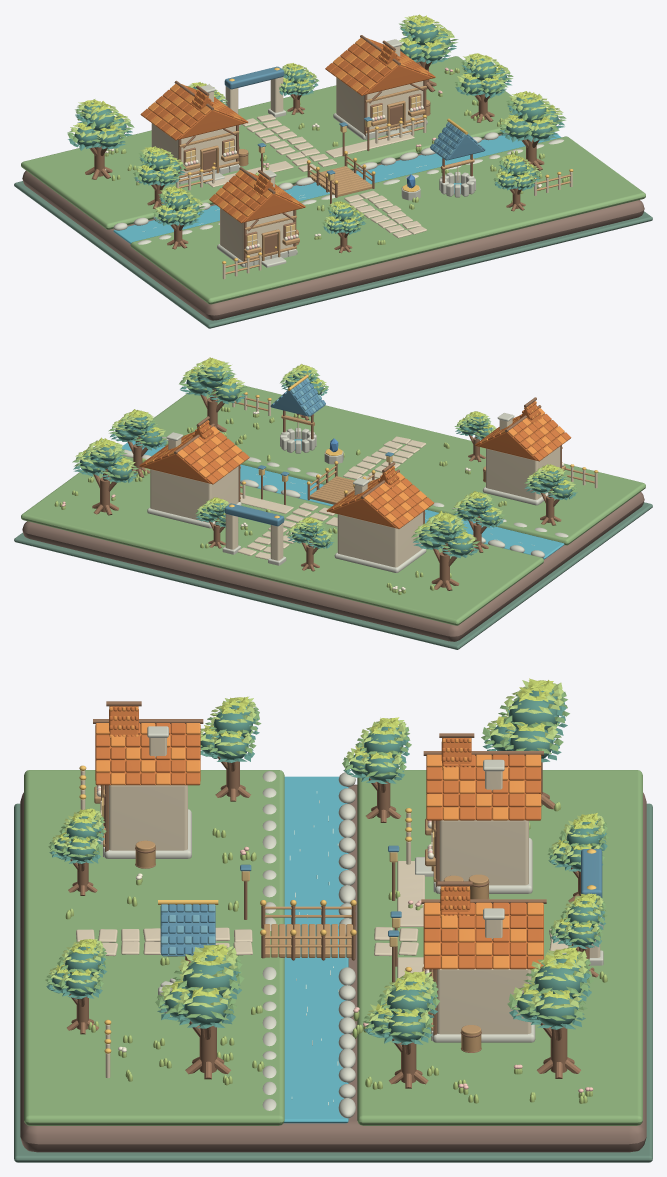
File: village.glb
The picture shows the model from 3 angles, top to bottom: view 1: azimuth 30°, elevation 25°; view 2: azimuth 150°, elevation 25°; view 3: azimuth 270°, elevation 25°; orthographic projection. The views are drawn at different scales.
Visible parts, largest first — view 1: Village_grass, Village_earth, Village_leafteal, Village_clay, Village_cream, Village_wood, Village_leaflight, Village_rim, Village_path, Village_stone, Village_plank, Village_leaf (+6 smaller); view 2: Village_grass, Village_earth, Village_cream, Village_clay, Village_leafteal, Village_rim, Village_wood, Village_leaflight, Village_stone, Village_leaf, Village_path, Village_claylight (+4 smaller); view 3: Village_grass, Village_earth, Village_leafteal, Village_water, Village_cream, Village_clay, Village_rim, Village_leaflight, Village_wood, Village_stone, Village_claylight, Village_leaf (+6 smaller).
Part boxes in pixels (left/top/right/bottom): Village_grass: left=21, top=56, right=645, bottom=304; Village_earth: left=22, top=133, right=644, bottom=320; Village_leafteal: left=68, top=19, right=564, bottom=234; Village_clay: left=140, top=39, right=435, bottom=223; Village_cream: left=151, top=46, right=572, bottom=279; Village_wood: left=85, top=35, right=544, bottom=263; Village_leaflight: left=70, top=17, right=569, bottom=244; Village_rim: left=14, top=181, right=652, bottom=328; Village_path: left=207, top=114, right=426, bottom=238; Village_stone: left=113, top=39, right=563, bottom=267; Village_plank: left=179, top=86, right=570, bottom=274; Village_leaf: left=67, top=20, right=566, bottom=230; Village_grass: left=21, top=384, right=645, bottom=625; Village_earth: left=22, top=492, right=644, bottom=641; Village_cream: left=150, top=395, right=597, bottom=567; Village_clay: left=139, top=401, right=571, bottom=528; Village_leafteal: left=73, top=363, right=577, bottom=558; Village_rim: left=14, top=502, right=652, bottom=649; Village_wood: left=92, top=389, right=561, bottom=590; Village_leaflight: left=54, top=360, right=575, bottom=594; Village_stone: left=119, top=413, right=568, bottom=572; Village_leaf: left=72, top=365, right=576, bottom=552; Village_path: left=238, top=436, right=425, bottom=559; Village_claylight: left=146, top=401, right=566, bottom=522; Village_grass: left=24, top=770, right=642, bottom=1125; Village_earth: left=20, top=784, right=646, bottom=1152; Village_leafteal: left=46, top=689, right=607, bottom=1044; Village_water: left=284, top=776, right=348, bottom=1123; Village_cream: left=80, top=738, right=600, bottom=1078; Village_clay: left=95, top=706, right=543, bottom=969; Village_rim: left=14, top=803, right=652, bottom=1162; Village_leaflight: left=49, top=680, right=607, bottom=1103; Village_wood: left=67, top=701, right=598, bottom=1088; Village_stone: left=97, top=726, right=603, bottom=1118; Village_claylight: left=95, top=706, right=543, bottom=969; Village_leaf: left=45, top=692, right=608, bottom=1036.
Bounding box in the file's own units: 33.5 × 7.88 × 25.5.
